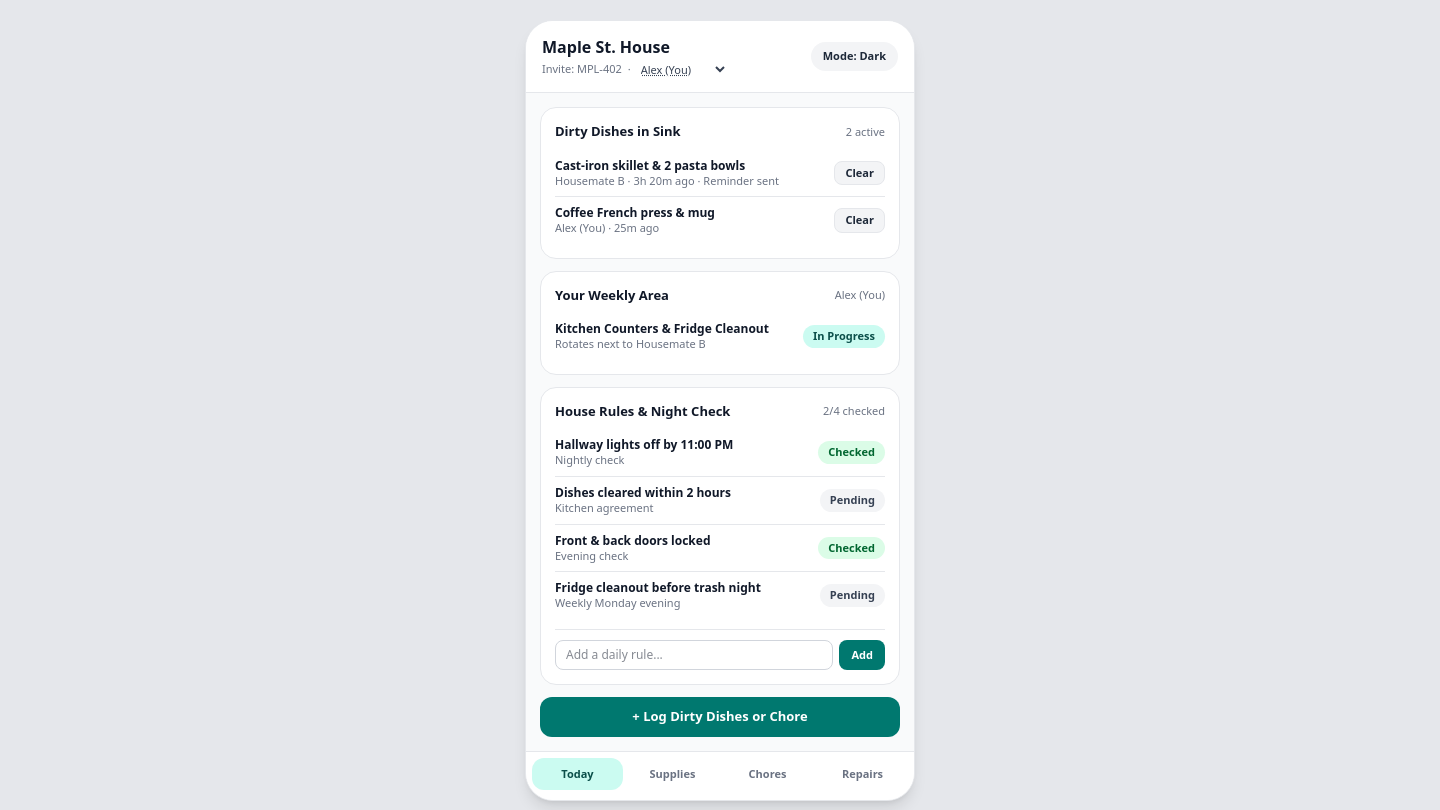
Scenario: HouseFlow shell and navigation › toggles Light and Dark Mode and updates document class
The image size is (1440, 810).
Click the button "Mode: Dark".
click(854, 57)  # box x1=811 y1=42 x2=898 y2=71
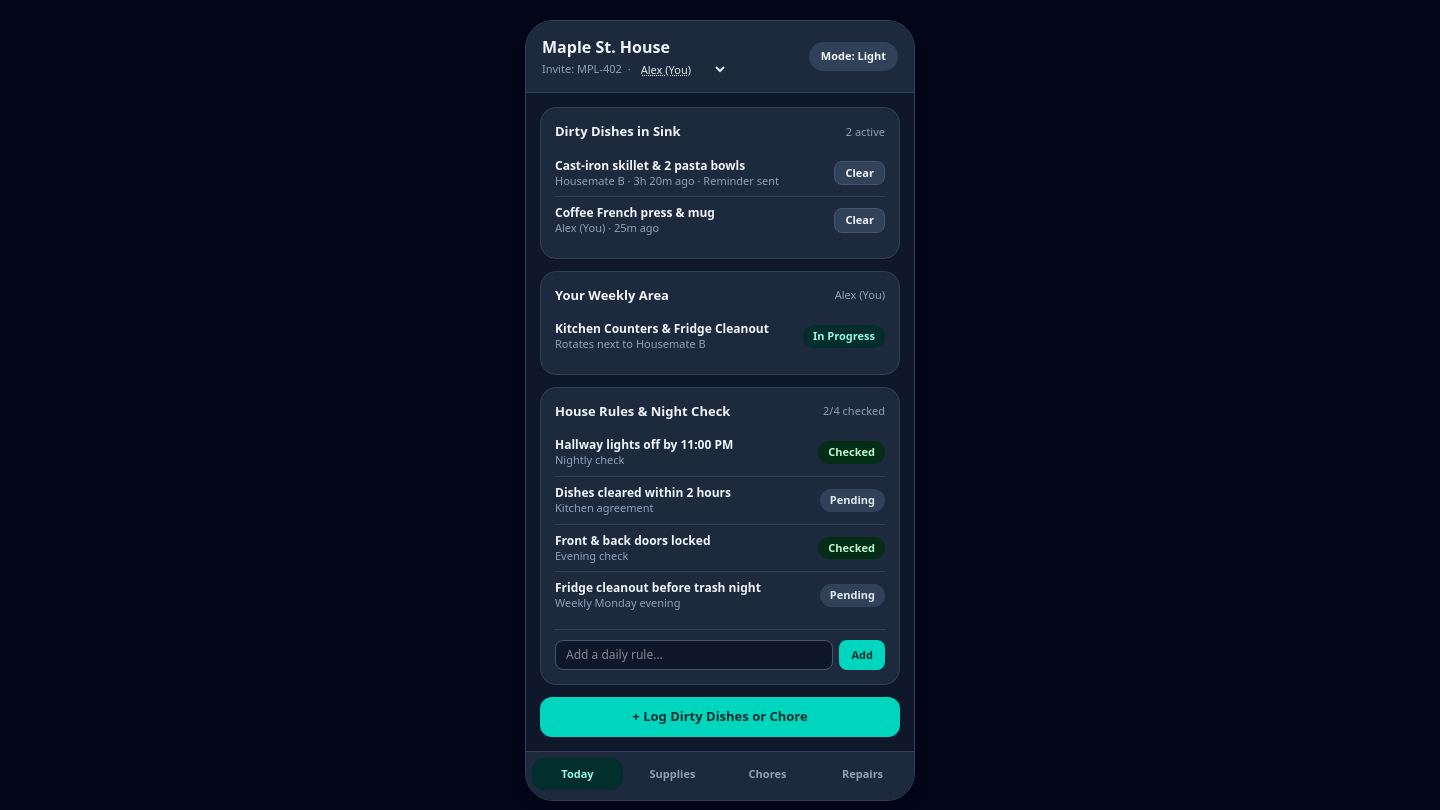
Expected: the button "Mode: Light" is shown, x1=809 y1=42 x2=898 y2=71
